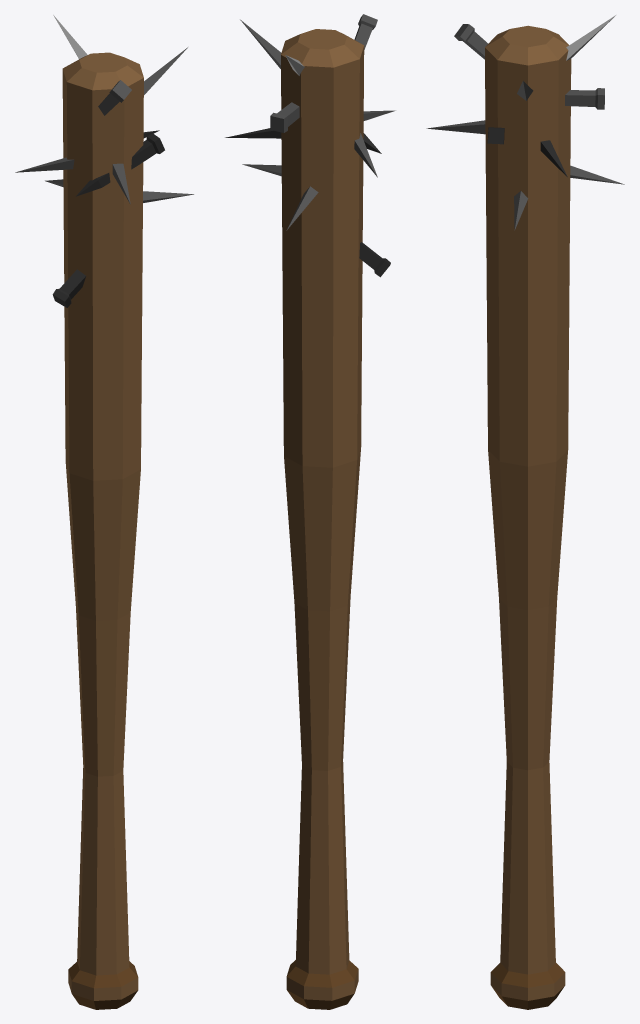
The model's file is baseballbat_3.fbx.
The picture shows the model from 3 angles, left to right: view 1: azimuth 30°, elevation 25°; view 2: azimuth 150°, elevation 25°; view 3: azimuth 270°, elevation 25°; orthographic projection. The views are drawn at different scales.
Visible parts, largest first — view 1: baseballbat_3; view 2: baseballbat_3; view 3: baseballbat_3.
Part boxes in pixels (x1,y1,x2,y2): baseballbat_3: [15, 15, 193, 1009]; baseballbat_3: [225, 14, 395, 1009]; baseballbat_3: [426, 15, 624, 1009].
Bounding box in the file's own units: 27.7 × 160 × 29.66.
Materials: 1 (1 with a texture image).
